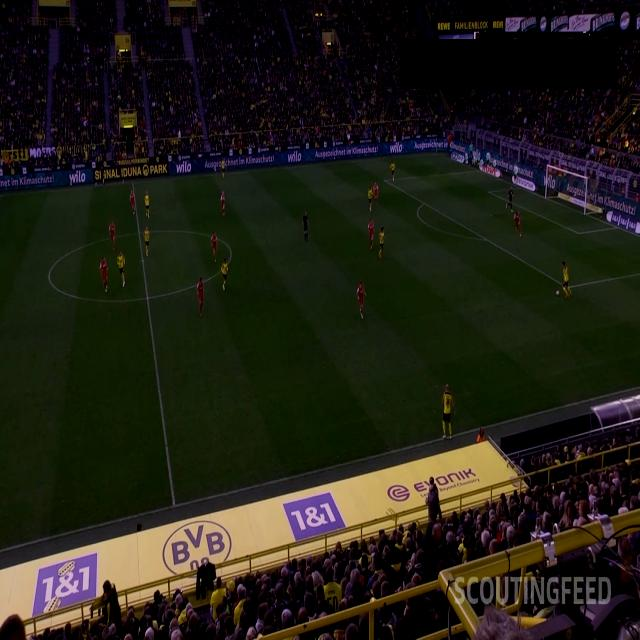ball: (555, 288, 560, 298)
f_player: (440, 384, 454, 441), (559, 261, 572, 299), (98, 254, 110, 292), (218, 258, 230, 292), (560, 262, 572, 296), (196, 278, 206, 316), (116, 252, 126, 288), (358, 283, 368, 318), (210, 230, 220, 264), (376, 227, 386, 259), (142, 228, 152, 260), (506, 185, 516, 214), (514, 211, 524, 239), (128, 187, 138, 214), (368, 220, 376, 252), (108, 222, 116, 250), (221, 190, 229, 217), (144, 192, 152, 218), (388, 160, 396, 183), (220, 156, 228, 178), (373, 182, 380, 206), (367, 186, 373, 212)
umpire: (302, 213, 310, 242)
